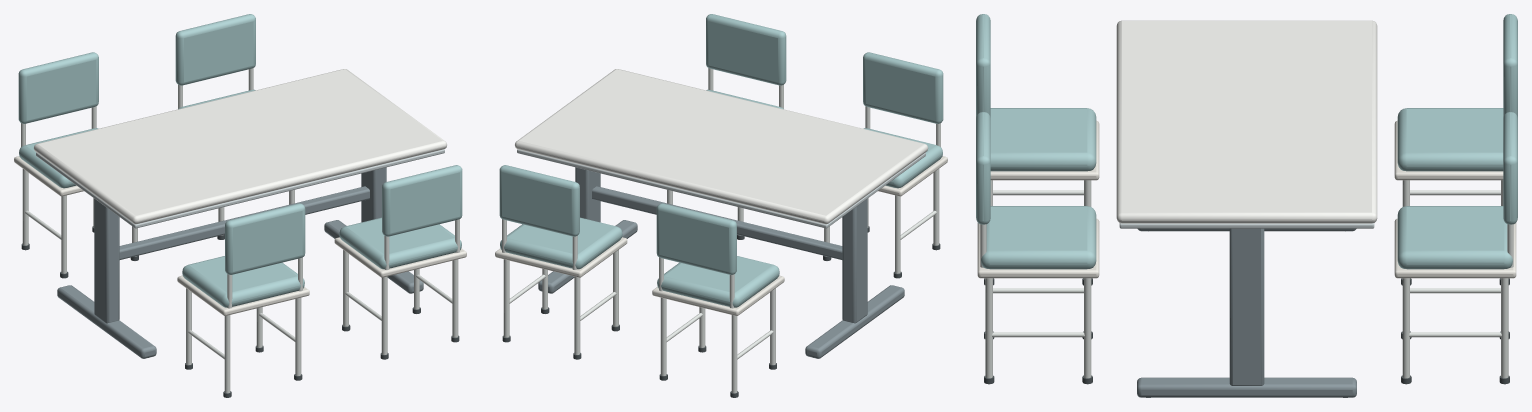
The model's file is galley_table_set.glb.
The picture shows the model from 3 angles, left to right: view 1: azimuth 30°, elevation 25°; view 2: azimuth 150°, elevation 25°; view 3: azimuth 270°, elevation 25°; orthographic projection. The views are drawn at different scales.
Visible parts, largest first — view 1: table_top_white_painted, chair_backs_teal_soft, table_frame_dark_alloy, chair_seats_teal_soft, chair_frames_satin_steel, chair_seat_shells_warm_shell, table_edge_alloy, chair_feet_black_rubber; view 2: table_top_white_painted, chair_backs_teal_soft, table_frame_dark_alloy, chair_seats_teal_soft, chair_frames_satin_steel, chair_seat_shells_warm_shell, table_edge_alloy, chair_feet_black_rubber; view 3: table_top_white_painted, chair_seats_teal_soft, table_frame_dark_alloy, chair_frames_satin_steel, chair_backs_teal_soft, chair_seat_shells_warm_shell, table_edge_alloy, chair_feet_black_rubber.
Boxes of the visible parts, x1,y1,x2,y2 form: table_top_white_painted: [33, 69, 446, 224]; chair_backs_teal_soft: [18, 14, 462, 274]; table_frame_dark_alloy: [57, 167, 423, 358]; chair_seats_teal_soft: [19, 89, 461, 307]; chair_frames_satin_steel: [21, 68, 459, 393]; chair_seat_shells_warm_shell: [14, 156, 466, 315]; table_edge_alloy: [36, 149, 444, 228]; chair_feet_black_rubber: [21, 226, 459, 397]; table_top_white_painted: [515, 69, 928, 224]; chair_backs_teal_soft: [499, 14, 943, 274]; table_frame_dark_alloy: [538, 167, 904, 358]; chair_seats_teal_soft: [500, 89, 942, 307]; chair_frames_satin_steel: [502, 68, 940, 393]; chair_seat_shells_warm_shell: [495, 156, 947, 315]; table_edge_alloy: [517, 149, 925, 228]; chair_feet_black_rubber: [502, 226, 940, 397]; table_top_white_painted: [1116, 20, 1377, 223]; chair_seats_teal_soft: [981, 108, 1512, 269]; table_frame_dark_alloy: [1137, 228, 1356, 397]; chair_frames_satin_steel: [980, 180, 1513, 378]; chair_backs_teal_soft: [976, 14, 1517, 224]; chair_seat_shells_warm_shell: [977, 120, 1516, 278]; table_edge_alloy: [1119, 223, 1374, 228]; chair_feet_black_rubber: [984, 278, 1509, 384].
Bounding box in the file's own units: 1.6 × 0.86 × 1.87.
